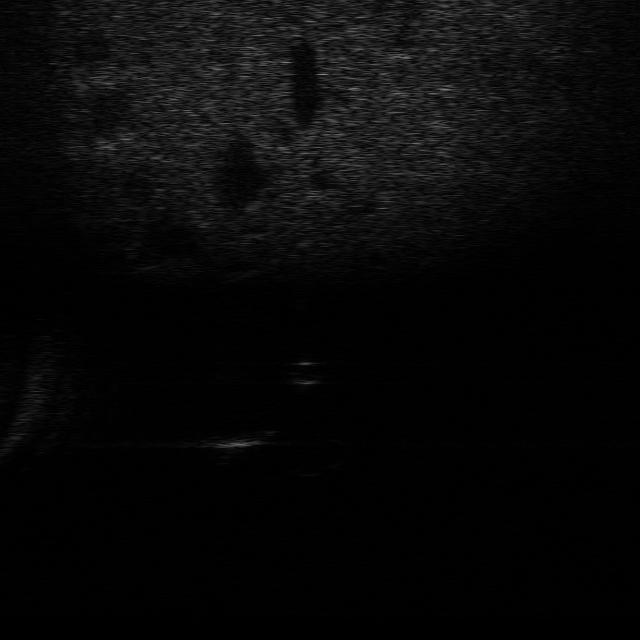ball: (280, 352, 330, 388)
square cage: (192, 421, 278, 465)
tyre: (281, 435, 354, 479)
